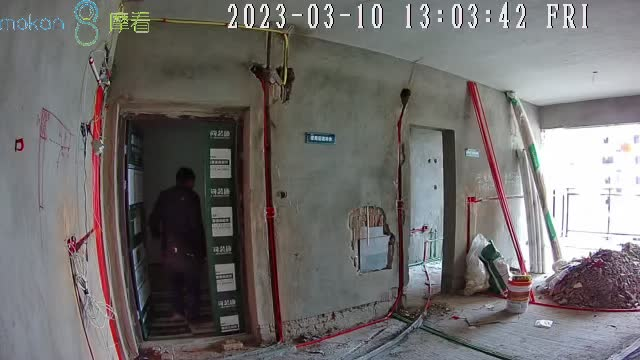people: (149, 168, 205, 320)
window: (543, 127, 640, 228)
